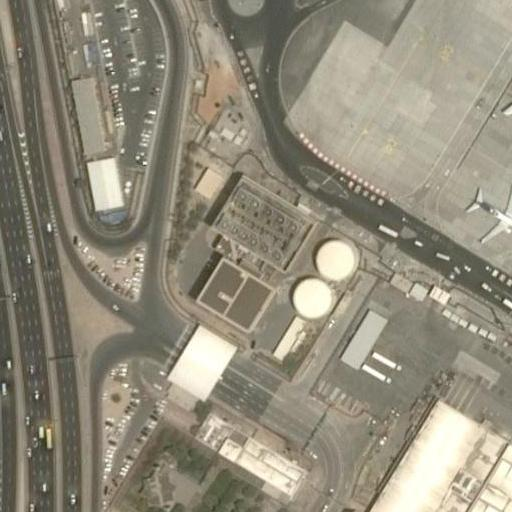Aircraft: (464, 181, 512, 244), (494, 60, 512, 164)
